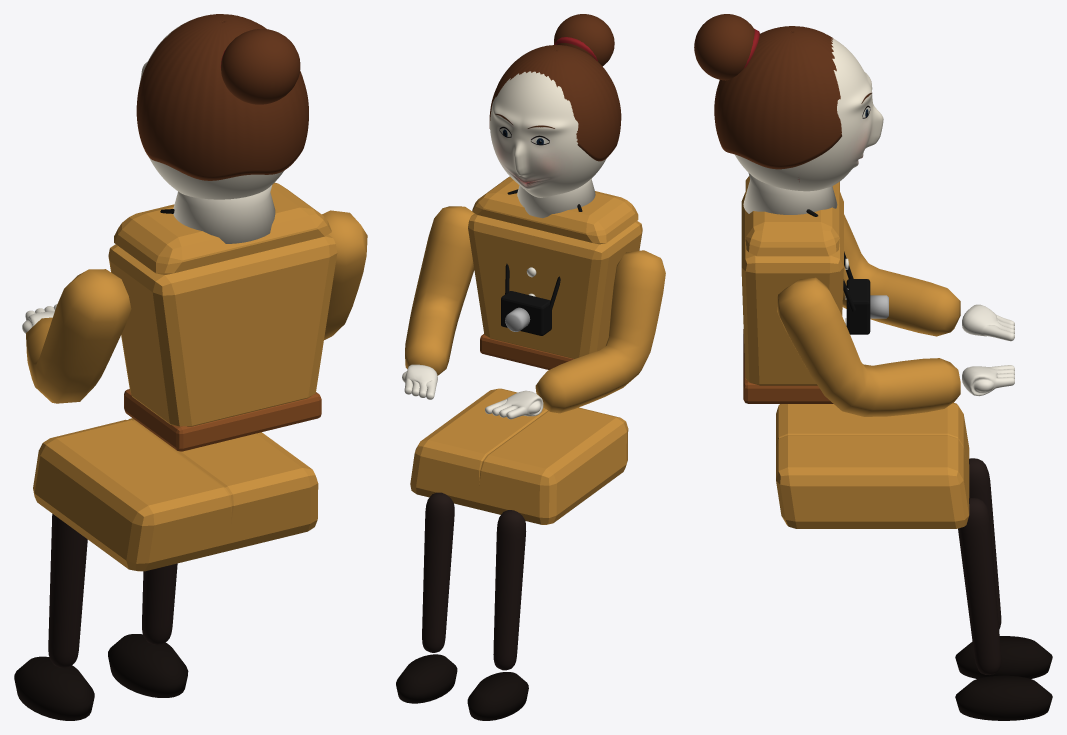
Rendered from mascara_turista.glb.
3 views of the same model, side by side, from view 1: azimuth 30°, elevation 25°; view 2: azimuth 150°, elevation 25°; view 3: azimuth 270°, elevation 25° (orthographic). The views are drawn at different scales.
Visible parts, largest first — view 1: corpete, saia_coxa, cabelo, saia_coxa.001, manga, ombros, coque, canela, cinto, gola, sapato, sapato.001 (+3 smaller); view 2: corpete, saia_coxa, mascara, manga, manga.001, saia_coxa.001, cabelo, ombros, canela, canela.001, sapato.001, sapato (+7 smaller); view 3: saia_coxa.001, cabelo, manga.001, corpete, mascara, saia_coxa, manga, canela.001, ombros, sapato.001, coque, sapato (+6 smaller).
Part boxes in pixels (<box>): corpete: <box>108,234,337,426</box>; saia_coxa: <box>33,419,232,571</box>; cabelo: <box>136,14,308,180</box>; saia_coxa.001: <box>128,418,318,550</box>; manga: <box>26,269,131,403</box>; ombros: <box>114,182,331,274</box>; coque: <box>221,29,300,104</box>; canela: <box>48,514,87,667</box>; cinto: <box>124,389,321,451</box>; gola: <box>173,185,275,243</box>; sapato: <box>14,656,94,720</box>; sapato.001: <box>108,634,188,697</box>; corpete: <box>468,213,642,358</box>; saia_coxa: <box>476,407,628,524</box>; mascara: <box>490,71,606,197</box>; manga: <box>535,250,665,413</box>; manga.001: <box>405,206,474,375</box>; saia_coxa.001: <box>410,388,547,508</box>; cabelo: <box>489,45,621,161</box>; ombros: <box>472,176,638,244</box>; canela: <box>493,510,526,670</box>; canela.001: <box>422,492,454,652</box>; sapato.001: <box>396,654,457,703</box>; sapato: <box>467,672,528,720</box>; saia_coxa.001: <box>776,435,969,528</box>; cabelo: <box>714,26,841,169</box>; manga.001: <box>777,277,960,416</box>; corpete: <box>741,192,843,385</box>; mascara: <box>734,38,883,191</box>; saia_coxa: <box>776,402,969,480</box>; manga: <box>842,214,960,336</box>; canela.001: <box>958,498,1001,674</box>; ombros: <box>745,176,839,256</box>; sapato.001: <box>955,675,1052,720</box>; coque: <box>694,14,758,80</box>; sapato: <box>955,636,1052,678</box>.
Bounding box in the file's own units: 0.6465 × 1.58 × 0.764.
Materials: 16 (1 with a texture image).
